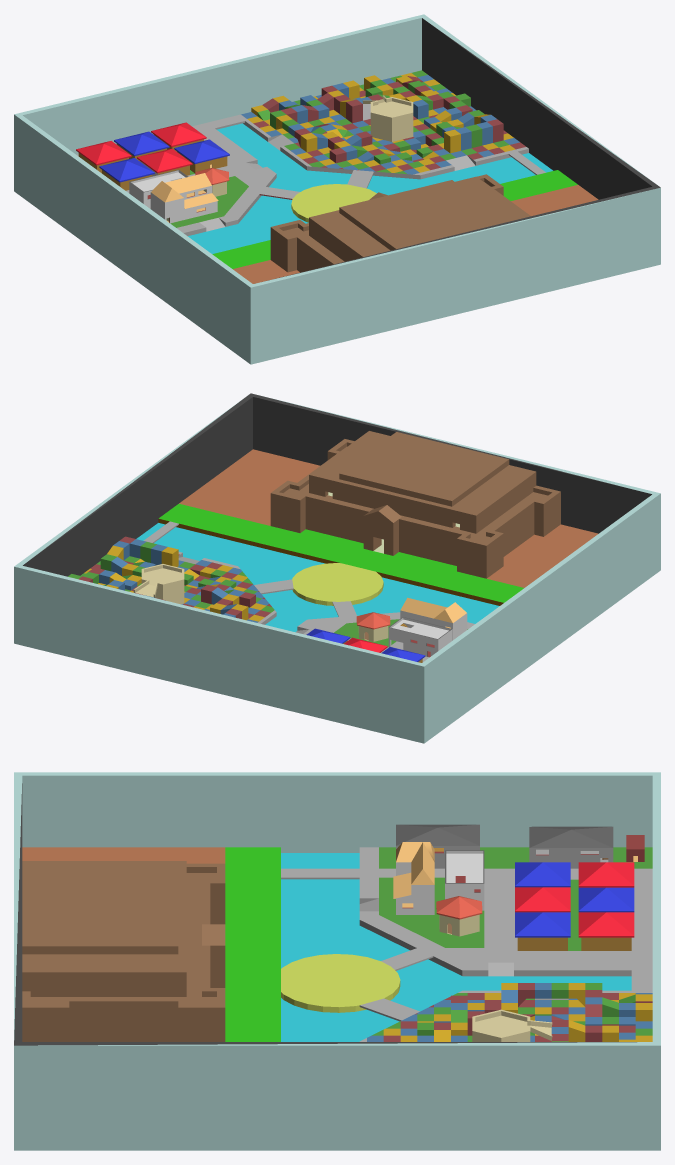
Rendered from stage_fix.fbx.
3 views of the same model, one above another, from view 1: azimuth 30°, elevation 25°; view 2: azimuth 150°, elevation 25°; view 3: azimuth 270°, elevation 25° (orthographic). The views are drawn at different scales.
Parts seen in each view (by area): view 1: 1019 3, Water; view 2: 1019 3, Water; view 3: 1019 3, Water.
Boxes of the visible parts, x1,y1,x2,y2 form: 1019 3: [14, 14, 660, 364]; Water: [188, 123, 553, 253]; 1019 3: [14, 393, 660, 743]; Water: [136, 523, 499, 632]; 1019 3: [14, 772, 660, 1150]; Water: [281, 853, 631, 1041].
Size of the model in its own units: 15400 by 2762 by 15400.
